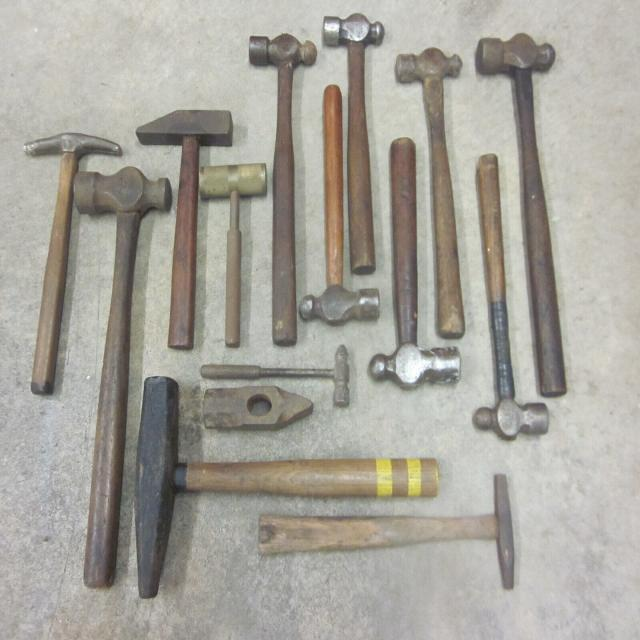hammer: (128, 370, 444, 604), (467, 22, 600, 406), (66, 162, 176, 610), (249, 464, 526, 596), (22, 125, 125, 402), (470, 148, 558, 447), (134, 93, 233, 354), (367, 134, 463, 390), (392, 37, 472, 341), (246, 22, 320, 350), (298, 78, 384, 340), (316, 9, 392, 281), (196, 153, 268, 354), (196, 344, 356, 413)
